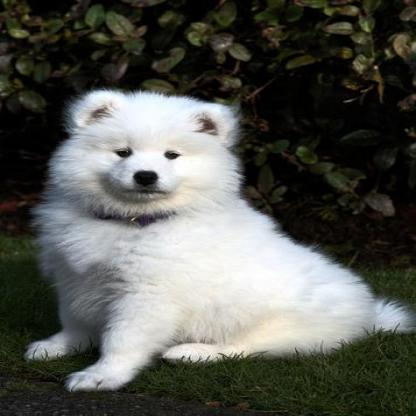Samoyed: (20, 86, 410, 387)
